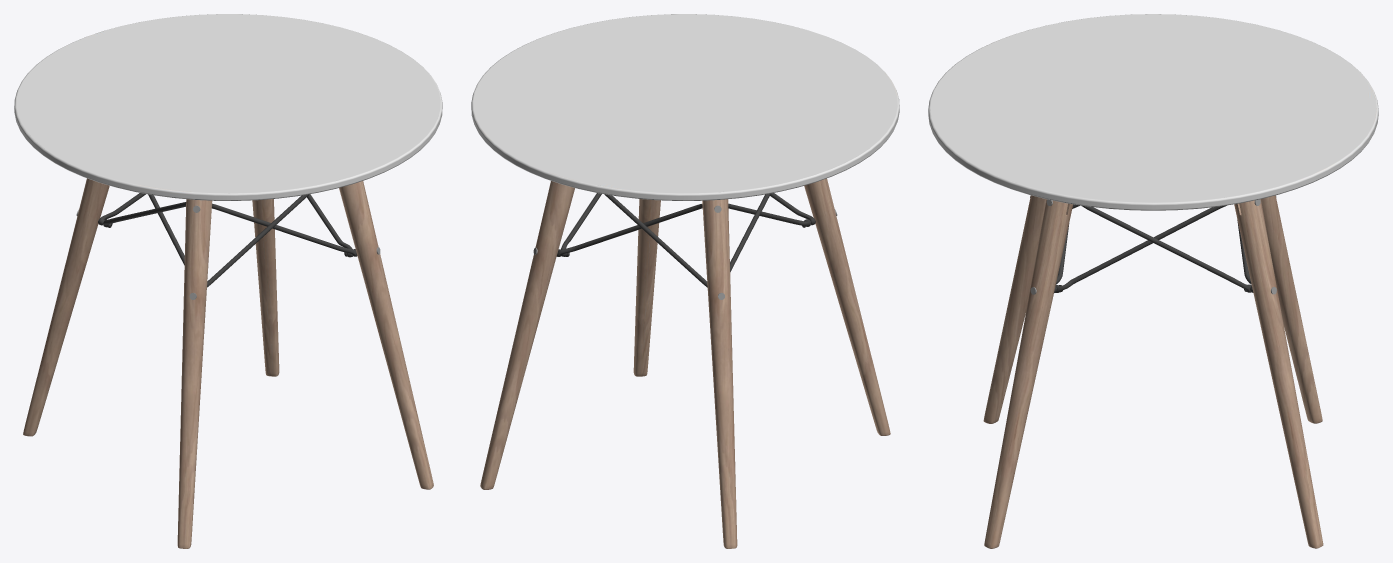
File: Table5.glb
3 renders of one model, left to right at view 1: azimuth 30°, elevation 25°; view 2: azimuth 150°, elevation 25°; view 3: azimuth 270°, elevation 25°, orthographic. The views are drawn at different scales.
Visible parts, largest first — view 1: Eiffel table; view 2: Eiffel table; view 3: Eiffel table.
Part boxes in pixels (x1,y1,x2,y2): Eiffel table: [14, 14, 442, 548]; Eiffel table: [471, 14, 899, 548]; Eiffel table: [928, 14, 1378, 548].
Size of the model in its own units: 0.7949 by 0.7309 by 0.7949.
1 material, 1 textured.
